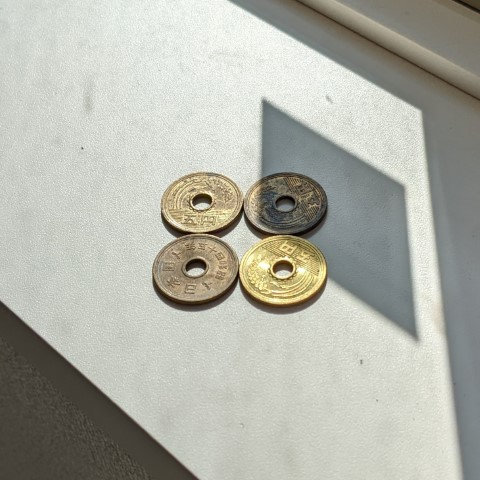5yen: (239, 235, 326, 307), (152, 234, 238, 305), (244, 172, 326, 234), (161, 172, 243, 233)
